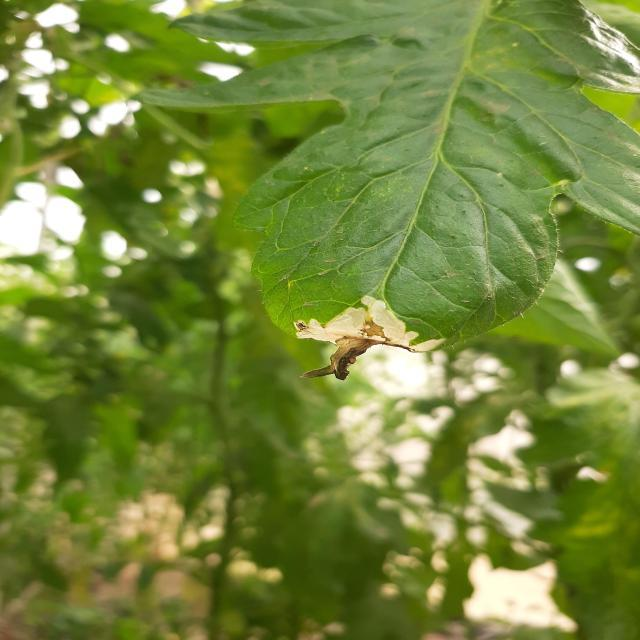Tuta absoluta: (284, 275, 448, 396)
